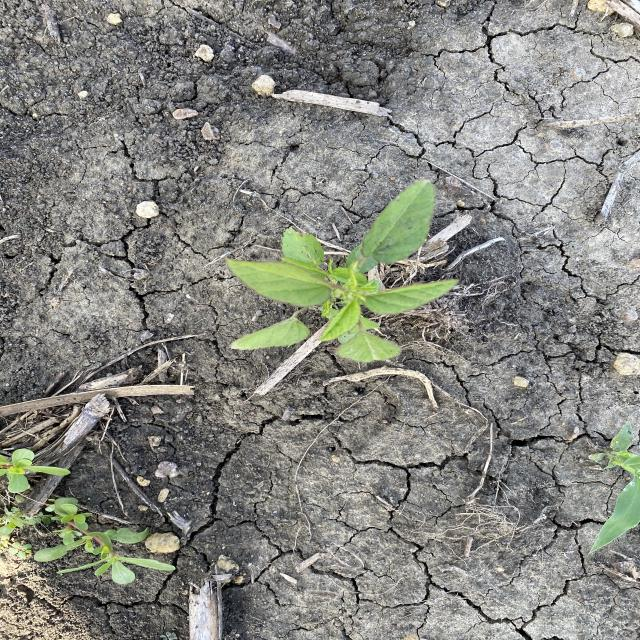PricklySida: (221, 174, 464, 364)
Purslane: (2, 447, 178, 587)
